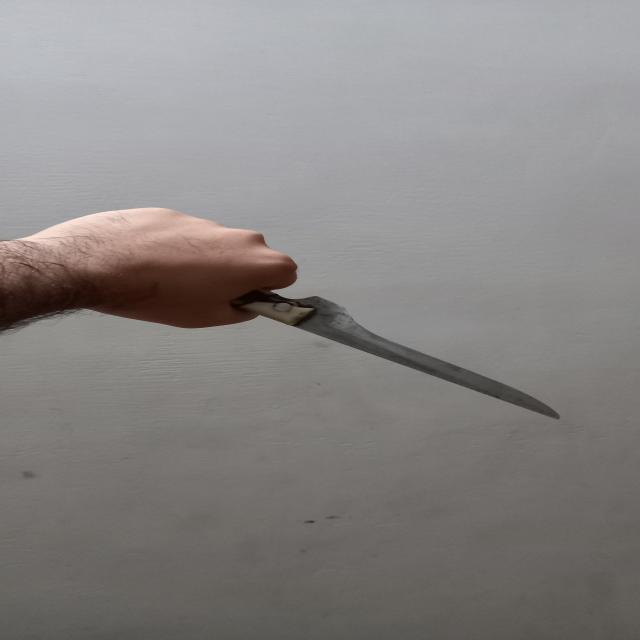Knife: (218, 283, 569, 421)
